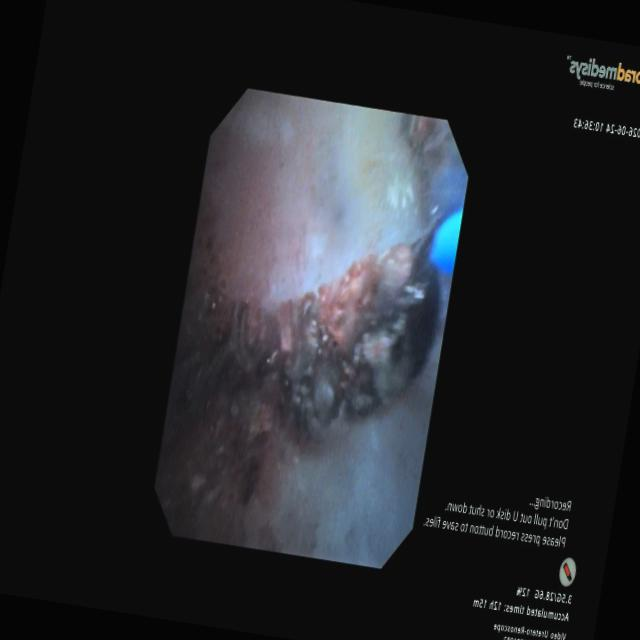stone-new: (205, 232, 441, 436), (404, 114, 438, 150), (241, 457, 260, 502)
